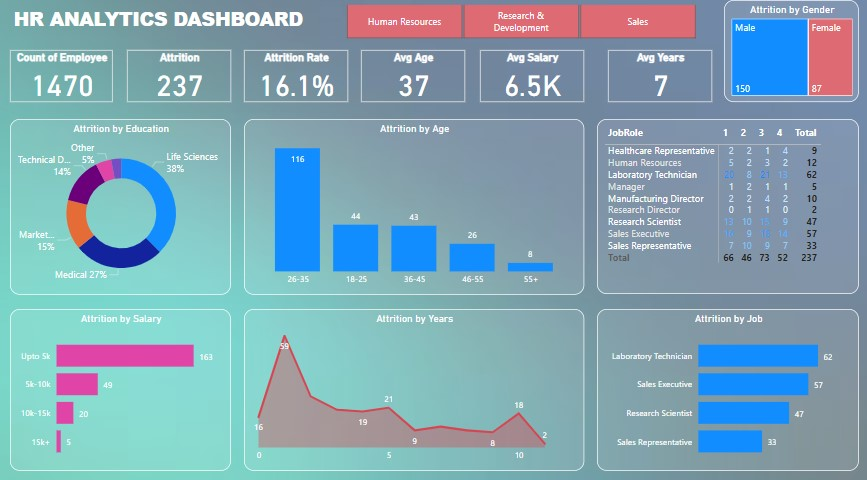

What the dashboard file says about the page in this screenshot:
{"tool":"powerbi","page":{"name":"Page 1","canvas":[1280,720],"ordinal":0},"visuals":[{"type":"card","title":"Count of Employee","fields":{"Values":["CountNonNull(HR_Analytics.EmpID)"]},"box":[34.6,80.6,148.3,74.9],"z":0},{"type":"card","title":"Attrition","fields":{"Values":["Sum(HR_Analytics.AttritionCount)"]},"box":[203,80.6,149.8,74.9],"z":1000},{"type":"card","title":"Attrition Rate","fields":{"Values":["HR_Analytics.AttritionRate"]},"box":[371.5,80.6,149.8,74.9],"z":2000},{"type":"card","title":"Avg Age","fields":{"Values":["Avg(HR_Analytics.Age)"]},"box":[540,80.6,149.8,74.9],"z":3000},{"type":"card","title":"Avg Salary","fields":{"Values":["Avg(HR_Analytics.MonthlyIncome)"]},"box":[711.4,80.6,149.8,74.9],"z":4000},{"type":"card","title":"Avg Years","fields":{"Values":["Avg(HR_Analytics.YearsAtCompany)"]},"box":[895.7,80.6,149.8,74.9],"z":5000},{"type":"donutChart","title":"Attrition by Education","fields":{"Category":["HR_Analytics.EducationField"],"Y":["Sum(HR_Analytics.AttritionCount)"]},"box":[34.6,180,318.2,253.4],"z":6000},{"type":"columnChart","title":"Attrition by Age","fields":{"Category":["HR_Analytics.AgeGroup"],"Y":["Sum(HR_Analytics.AttritionCount)"]},"box":[371.5,180,489.6,253.4],"z":7000},{"type":"pivotTable","fields":{"Rows":["HR_Analytics.JobRole"],"Columns":["HR_Analytics.JobSatisfaction"],"Values":["Sum(HR_Analytics.AttritionCount)"]},"box":[879.8,180,377.3,252],"z":8000},{"type":"barChart","title":"Attrition by Salary","fields":{"Category":["HR_Analytics.SalarySlab"],"Y":["Sum(HR_Analytics.AttritionCount)"]},"box":[34.6,453.6,318.2,233.3],"z":9000},{"type":"barChart","title":"Attrition by Job","fields":{"Y":["Sum(HR_Analytics.AttritionCount)"],"Category":["HR_Analytics.JobRole"]},"box":[879.8,453.6,377.3,233.3],"z":10000},{"type":"areaChart","title":"Attrition by Years","fields":{"Category":["HR_Analytics.YearsAtCompany"],"Y":["Sum(HR_Analytics.AttritionCount)"]},"box":[371.5,453.6,489.6,233.3],"z":11000},{"type":"treemap","title":"Attrition by Gender","fields":{"Group":["HR_Analytics.Gender"],"Values":["Sum(HR_Analytics.AttritionCount)"]},"box":[1062.7,8.6,194.4,146.9],"z":12000},{"type":"slicer","fields":{"Values":["HR_Analytics.Department"]},"box":[493.9,8.6,551.5,61.9],"z":13000},{"type":"textbox","box":[34.6,11.5,459.4,47.5],"z":14000}]}

Visuals, with their boxes in screenshot pixels (x1, y1, x2, y2), scaled from the page's 1280x720 canvas onto the 867x480 screenshot:
"Count of Employee" card: x1=23 y1=54 x2=124 y2=104
"Attrition" card: x1=138 y1=54 x2=239 y2=104
"Attrition Rate" card: x1=252 y1=54 x2=353 y2=104
"Avg Age" card: x1=366 y1=54 x2=467 y2=104
"Avg Salary" card: x1=482 y1=54 x2=583 y2=104
"Avg Years" card: x1=607 y1=54 x2=708 y2=104
"Attrition by Education" donutChart: x1=23 y1=120 x2=239 y2=289
"Attrition by Age" columnChart: x1=252 y1=120 x2=583 y2=289
pivotTable - HR_Analytics.JobRole x HR_Analytics.JobSatisfaction: x1=596 y1=120 x2=851 y2=288
"Attrition by Salary" barChart: x1=23 y1=302 x2=239 y2=458
"Attrition by Job" barChart: x1=596 y1=302 x2=851 y2=458
"Attrition by Years" areaChart: x1=252 y1=302 x2=583 y2=458
"Attrition by Gender" treemap: x1=720 y1=6 x2=851 y2=104
slicer - HR_Analytics.Department: x1=335 y1=6 x2=708 y2=47
textbox: x1=23 y1=8 x2=335 y2=39
